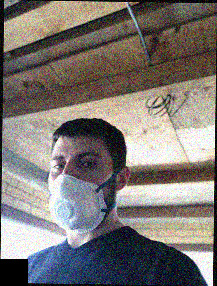with_mask: (48, 146, 112, 235)
